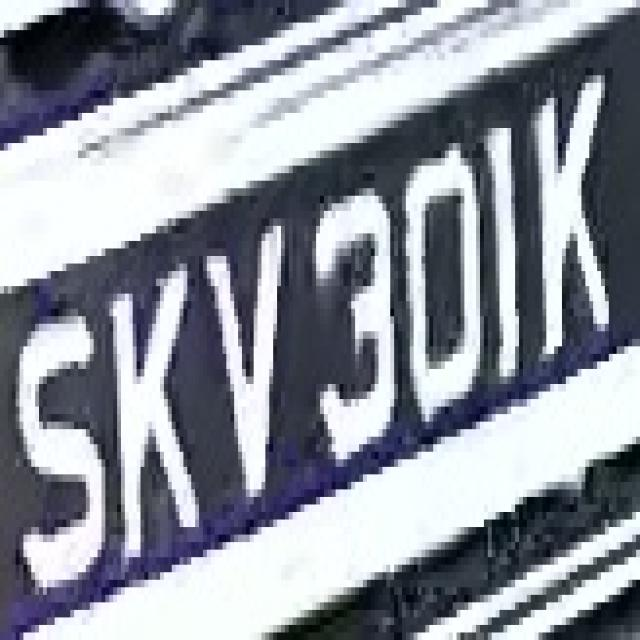0: (394, 143, 492, 399)
1: (476, 98, 523, 422)
3: (301, 188, 398, 444)
K: (523, 52, 617, 376), (105, 264, 207, 557)
S: (16, 309, 109, 587)
V: (195, 210, 289, 534)
